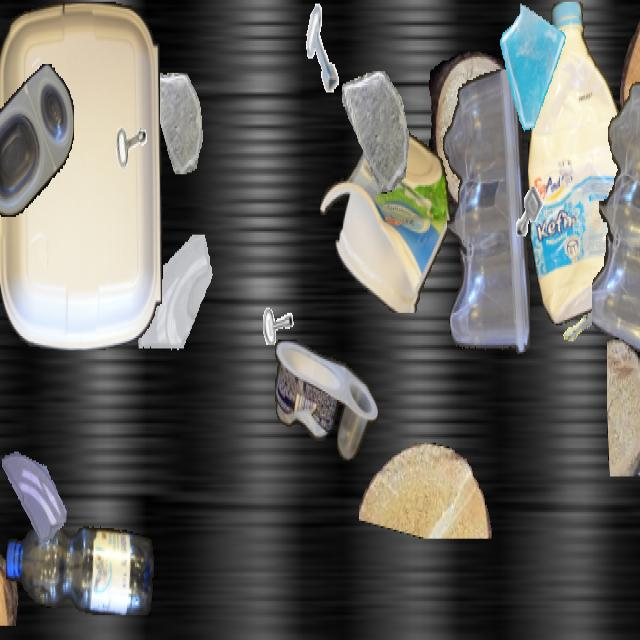glass: (136, 234, 218, 380), (496, 2, 570, 133), (342, 71, 410, 192), (2, 441, 66, 555), (148, 73, 204, 172)
metal: (97, 73, 157, 179), (546, 271, 604, 374), (298, 2, 350, 94), (253, 265, 297, 343), (508, 174, 550, 249)
plastic: (0, 2, 162, 350), (528, 2, 630, 325), (440, 69, 530, 361), (320, 124, 450, 313), (6, 519, 154, 615), (592, 73, 640, 357), (275, 340, 377, 460), (0, 64, 74, 217)
wood: (426, 52, 522, 212), (359, 442, 495, 538), (607, 338, 640, 476), (620, 2, 640, 194), (0, 546, 19, 624)
